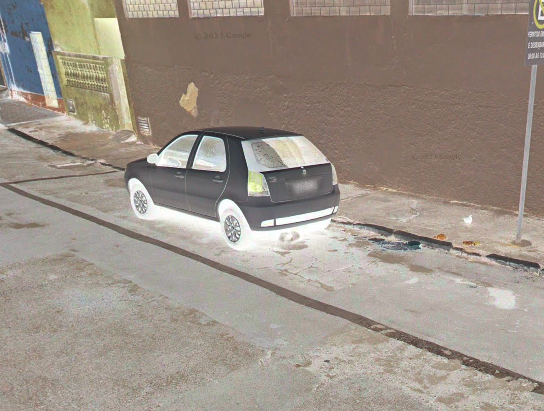car: (119, 120, 344, 257)
